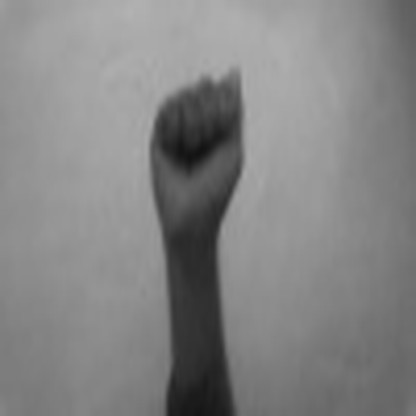a: (144, 49, 254, 241)
